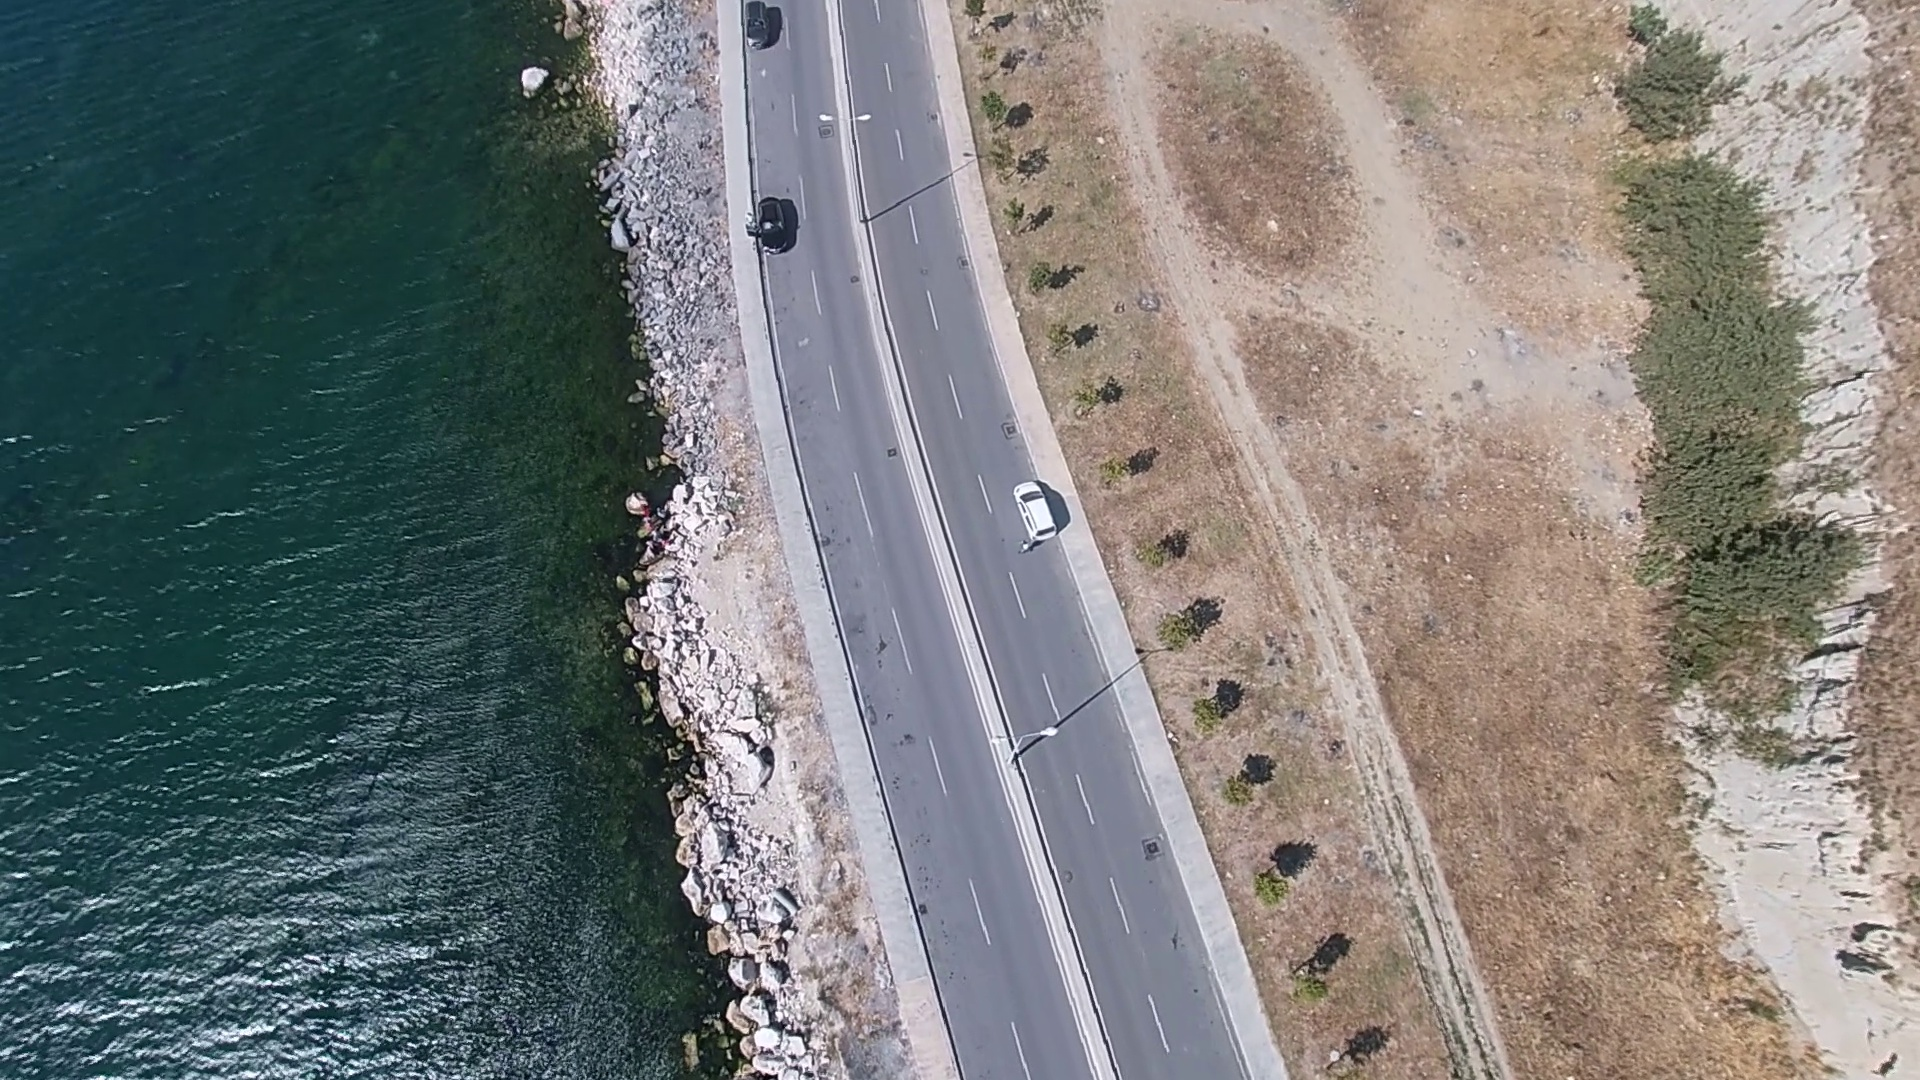arac: (1007, 476, 1062, 551), (748, 195, 800, 261), (741, 3, 787, 61)
